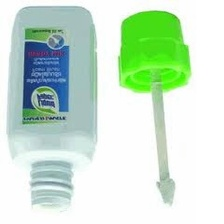correction_fluid: (4, 4, 98, 216)
